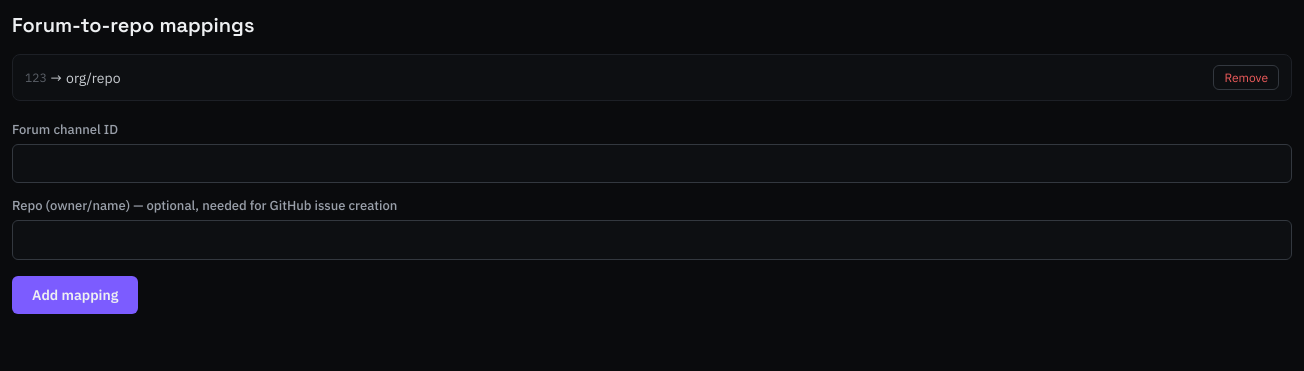
it: ForumConfig › shows an error and keeps the mapping list unchanged when adding fails (e.g. duplicate forumChannelId)
The width and height of the screenshot is (1304, 371).
Expected: the text "123" is shown, [25,70,47,85]
Step 1. Type "123" into the field labelled "Forum channel ID" → x=652, y=164, box [12,144,1292,183]
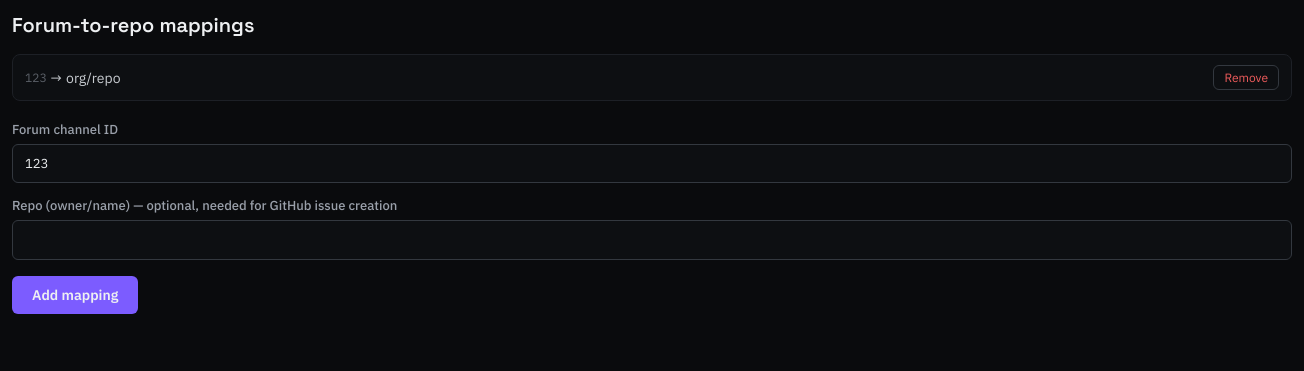
Step 2. Type "org/other-repo" into the field labelled "Repo (owner/name)" → x=652, y=240, box [12,220,1292,260]
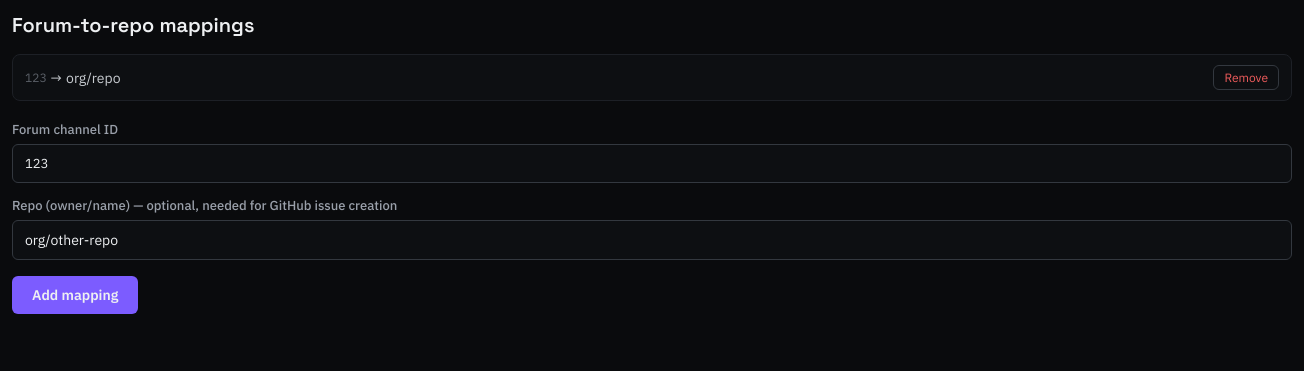
Step 3. Click the button "Add mapping" → x=75, y=295, box [12,276,138,314]
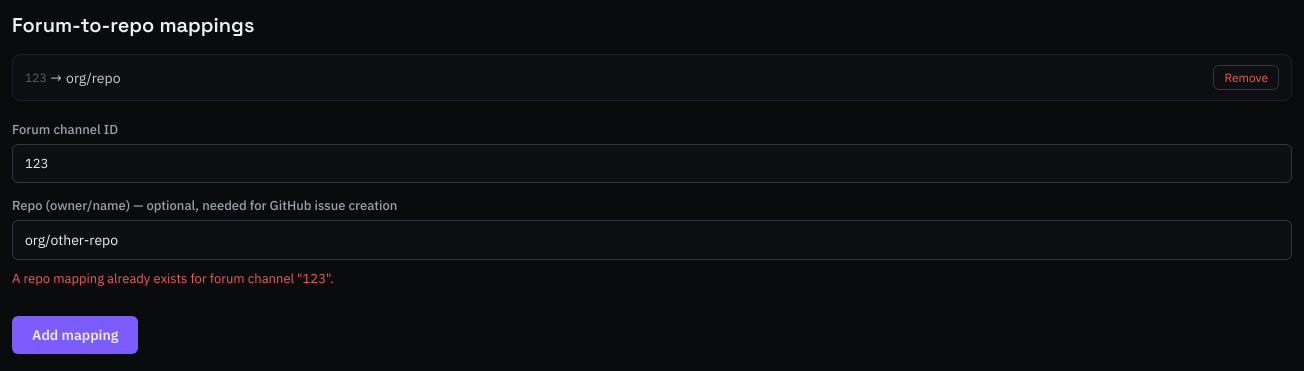
Now the message shows "already exists", box [12,270,334,287]
